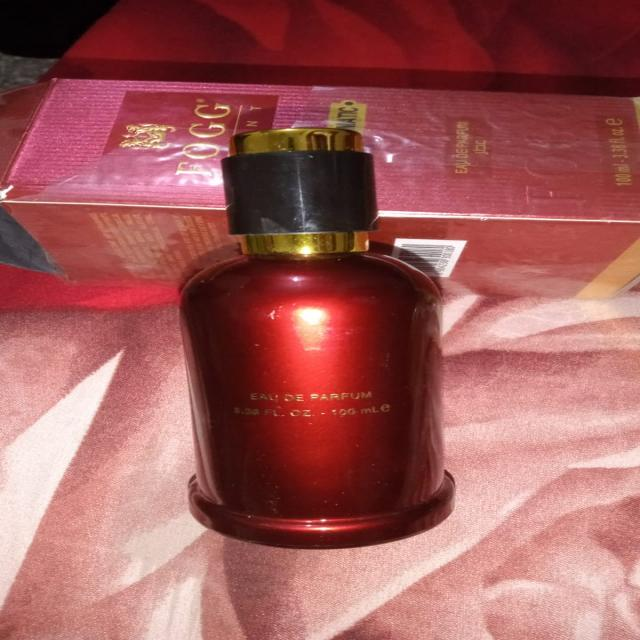perfume: (155, 130, 490, 552)
